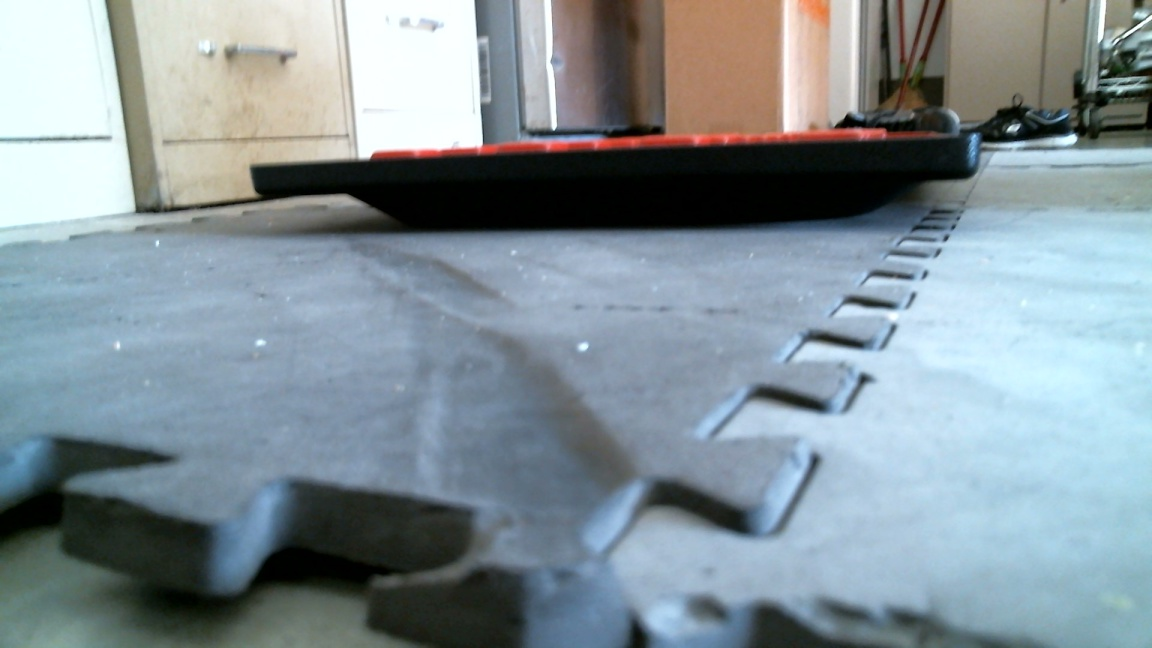red_foundation: (243, 130, 990, 201)
